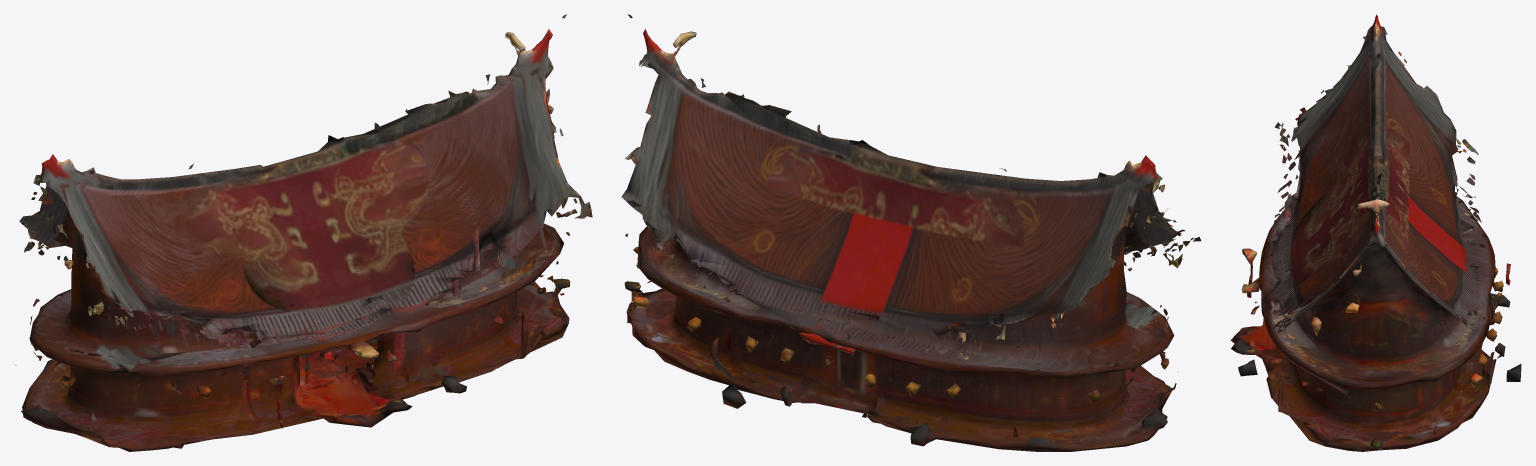
The model's file is 중국_판타지_대형_0728140735_texture.fbx.
3 renders of one model, left to right at view 1: azimuth 30°, elevation 25°; view 2: azimuth 150°, elevation 25°; view 3: azimuth 270°, elevation 25°, orthographic. The views are drawn at different scales.
Parts seen in each view (by area): view 1: Mesh_0; view 2: Mesh_0; view 3: Mesh_0.
Part boxes in pixels (left/top/right/bottom): Mesh_0: left=15, top=14, right=592, bottom=451; Mesh_0: left=621, top=14, right=1201, bottom=451; Mesh_0: left=1230, top=14, right=1521, bottom=451.
Bounding box in the file's own units: 192 × 94.77 × 103.
1 material, 1 textured.
